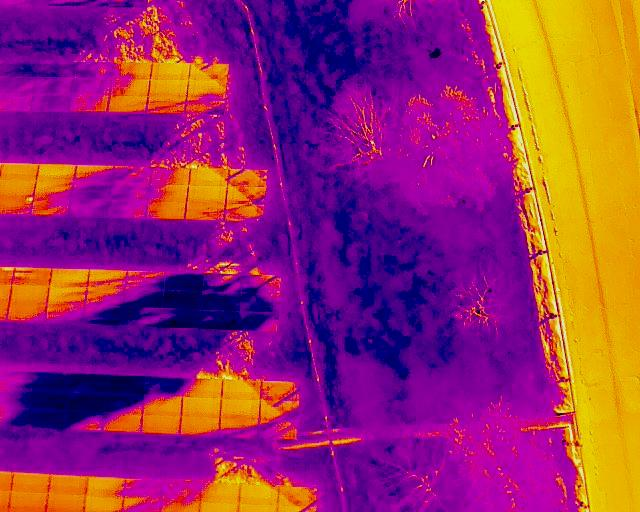Cell: (0, 196, 34, 214)
Cell-Multi: (12, 267, 50, 286)
No-Anomaly: (8, 492, 47, 512), (140, 415, 180, 434), (10, 473, 49, 492), (181, 398, 220, 417), (87, 477, 125, 496), (9, 285, 47, 304), (239, 485, 279, 502), (220, 399, 260, 416), (49, 476, 86, 494), (202, 483, 239, 501), (187, 185, 226, 202), (147, 202, 186, 219), (109, 96, 147, 113), (149, 80, 189, 96), (47, 495, 86, 511), (0, 164, 39, 180), (86, 495, 124, 511), (152, 63, 189, 79), (0, 179, 35, 195), (38, 165, 74, 180)
Shadowing: (219, 417, 259, 438), (8, 303, 47, 324), (163, 308, 202, 328), (259, 419, 298, 439), (185, 202, 225, 221), (47, 304, 87, 323), (179, 417, 218, 436), (151, 166, 190, 185), (261, 382, 300, 401), (127, 271, 166, 290), (125, 288, 164, 307), (242, 275, 281, 294), (107, 376, 144, 396), (185, 96, 226, 114), (181, 380, 222, 398), (68, 198, 109, 216), (125, 307, 163, 326), (240, 312, 278, 331), (68, 393, 106, 412), (29, 391, 67, 410), (29, 410, 67, 429), (241, 293, 279, 312), (203, 274, 241, 293), (221, 381, 261, 399), (87, 306, 124, 325), (164, 480, 201, 499), (279, 487, 316, 506), (87, 287, 124, 306), (103, 414, 142, 432), (112, 167, 151, 185), (30, 373, 69, 391), (108, 200, 147, 218), (260, 401, 299, 419), (104, 395, 143, 413), (163, 291, 202, 309), (33, 196, 69, 215), (125, 479, 163, 497), (143, 378, 181, 396), (72, 180, 110, 198), (70, 374, 106, 393), (51, 269, 89, 287), (70, 94, 108, 112), (142, 397, 180, 415), (147, 185, 187, 202), (202, 311, 239, 329), (112, 79, 149, 97), (114, 62, 151, 80), (225, 205, 264, 222), (149, 96, 188, 113), (229, 169, 267, 186), (202, 293, 240, 310), (166, 273, 203, 290), (31, 94, 70, 110), (74, 165, 113, 181), (227, 187, 266, 203), (189, 169, 228, 185), (72, 78, 111, 94), (187, 80, 226, 96), (48, 287, 87, 303), (68, 412, 104, 429), (34, 78, 72, 94), (110, 183, 147, 199), (34, 181, 71, 197), (89, 270, 126, 286), (39, 61, 75, 77), (124, 497, 162, 512), (75, 61, 113, 76), (190, 65, 227, 80)
